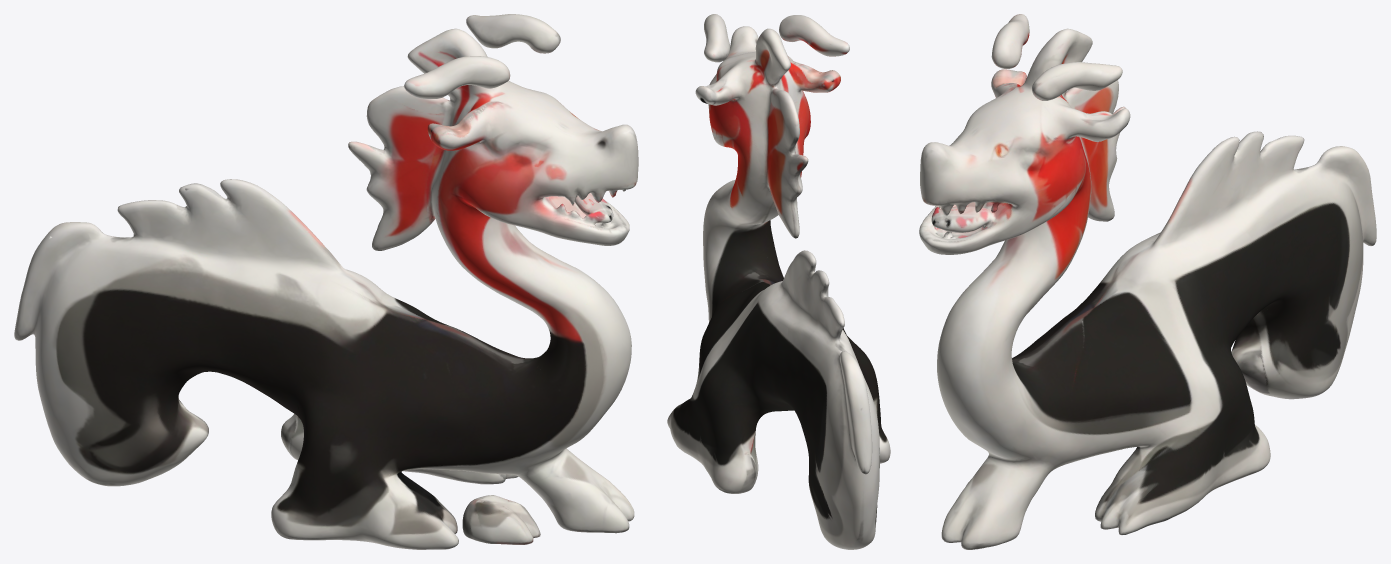
File: Dragon_Emblem.glb
3 renders of one model, left to right at view 1: azimuth 30°, elevation 25°; view 2: azimuth 150°, elevation 25°; view 3: azimuth 270°, elevation 25°, orthographic. The views are drawn at different scales.
Size of the model in its own units: 1.78 by 2.01 by 1.8.
1 material, 1 textured.
